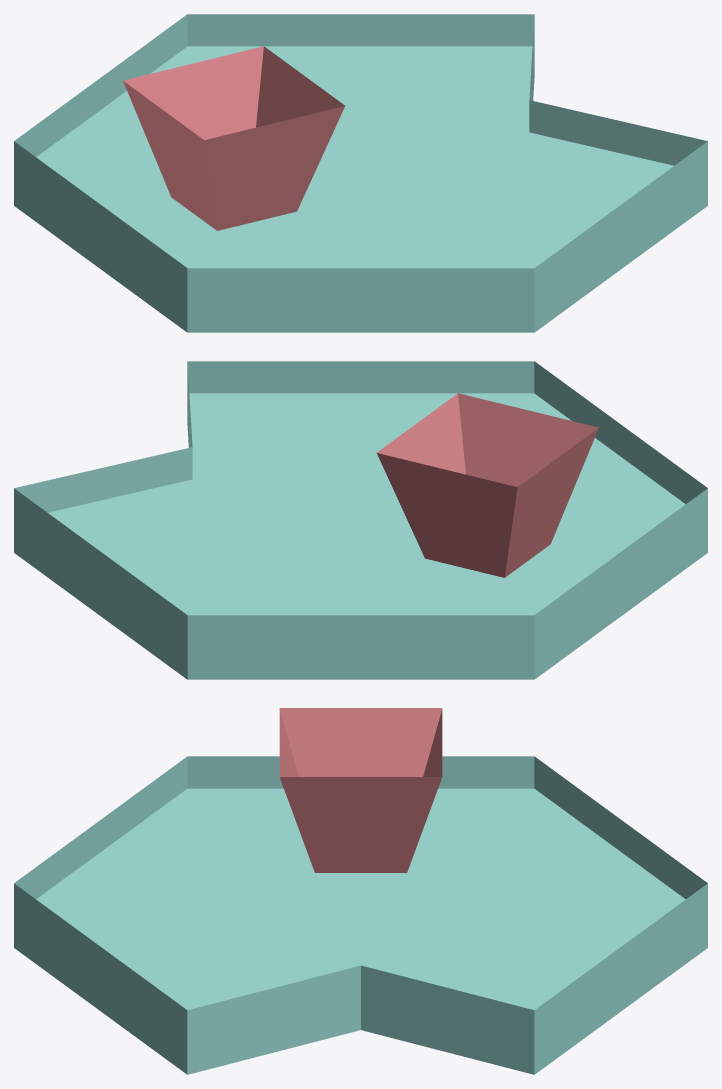
File: lily_large.glb
3 views of the same model, one above another, from view 1: azimuth 30°, elevation 25°; view 2: azimuth 150°, elevation 25°; view 3: azimuth 270°, elevation 25° (orthographic).
Parts seen in each view (by area): view 1: lily_large; view 2: lily_large; view 3: lily_large.
Part boxes in pixels (bbox=[...]): lily_large: bbox=[14, 14, 707, 332]; lily_large: bbox=[14, 361, 707, 679]; lily_large: bbox=[14, 708, 707, 1074].
Bounding box in the file's own units: 0.2782 × 0.0733 × 0.3212.
